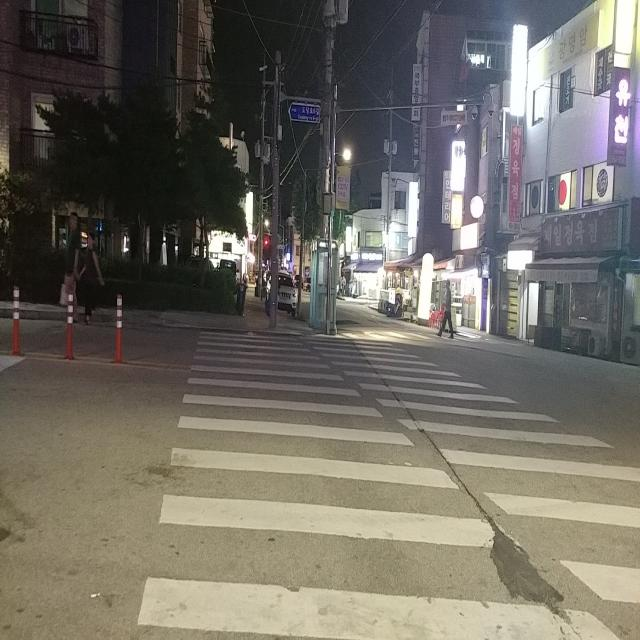횡단보도: (138, 329, 640, 640)
